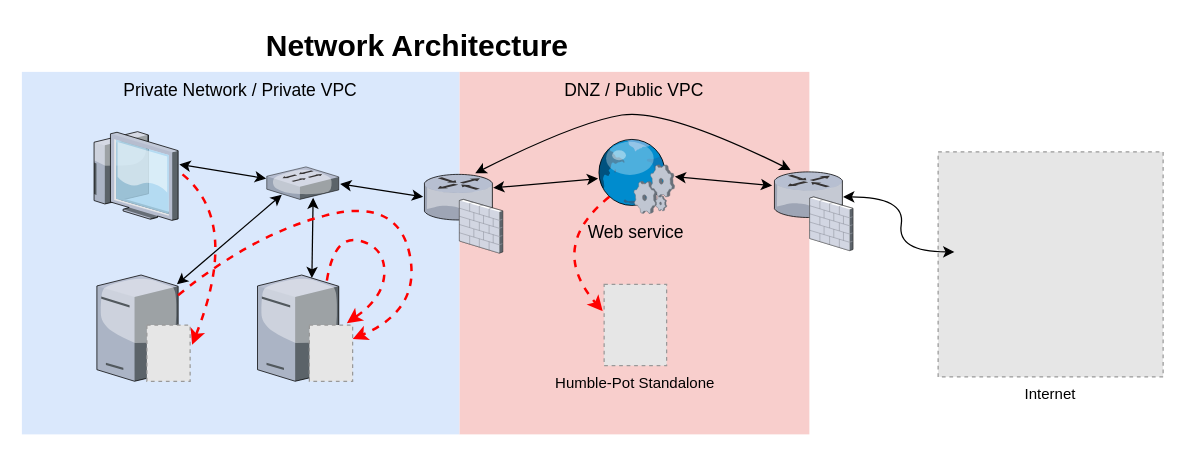
This 1185x455 diagram has some shape labels left out. Grey dashed boxes stand in for pictures. Each missing label, with the box of its shape:
Client: (89, 131, 178, 220)
Server A: (96, 274, 178, 381)
Server B: (257, 274, 338, 381)
